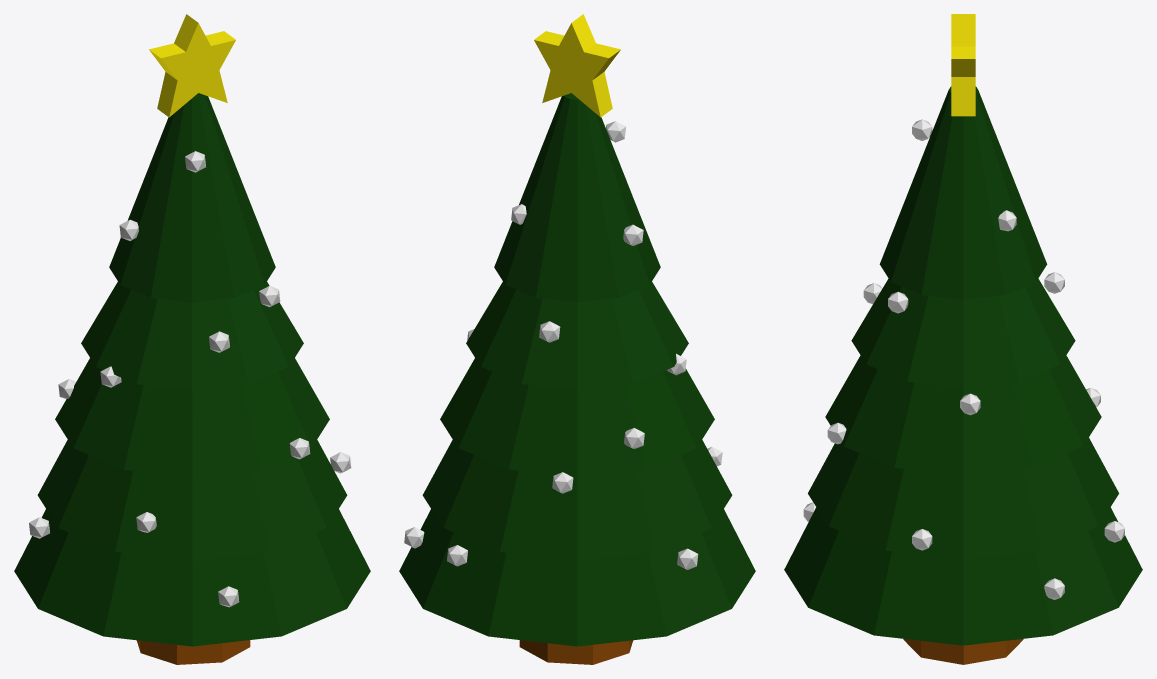
Rendered from christmasTree.fbx.
The picture shows the model from 3 angles, left to right: view 1: azimuth 30°, elevation 25°; view 2: azimuth 150°, elevation 25°; view 3: azimuth 270°, elevation 25°; orthographic projection.
Visible parts, largest first — view 1: Cylinder.026, Cylinder.028, Cylinder.029, Cylinder.031, Cylinder.030, Cube.021, Cylinder.027; view 2: Cylinder.026, Cylinder.028, Cylinder.029, Cylinder.031, Cylinder.030, Cube.021, Cylinder.027; view 3: Cylinder.026, Cylinder.028, Cylinder.029, Cylinder.031, Cylinder.030, Cube.021, Cylinder.027.
Boxes of the visible parts, x1=… form: Cylinder.026: x1=14, y1=509, x2=370, y2=646; Cylinder.028: x1=37, y1=440, x2=347, y2=560; Cylinder.029: x1=55, y1=358, x2=329, y2=477; Cylinder.031: x1=109, y1=93, x2=275, y2=302; Cylinder.030: x1=81, y1=282, x2=303, y2=390; Cube.021: x1=149, y1=14, x2=235, y2=117; Cylinder.027: x1=136, y1=640, x2=250, y2=664; Cylinder.026: x1=399, y1=509, x2=755, y2=646; Cylinder.028: x1=422, y1=440, x2=732, y2=560; Cylinder.029: x1=440, y1=358, x2=714, y2=477; Cylinder.031: x1=494, y1=93, x2=660, y2=302; Cylinder.030: x1=466, y1=282, x2=688, y2=390; Cube.021: x1=534, y1=14, x2=620, y2=117; Cylinder.027: x1=519, y1=640, x2=633, y2=664; Cylinder.026: x1=784, y1=507, x2=1142, y2=645; Cylinder.028: x1=808, y1=437, x2=1118, y2=559; Cylinder.029: x1=825, y1=355, x2=1101, y2=475; Cylinder.031: x1=879, y1=86, x2=1047, y2=299; Cylinder.030: x1=851, y1=278, x2=1075, y2=387; Cube.021: x1=951, y1=14, x2=975, y2=116; Cylinder.027: x1=903, y1=639, x2=1023, y2=664.
Bounding box in the file's own units: 29.79 × 57.33 × 29.79.
